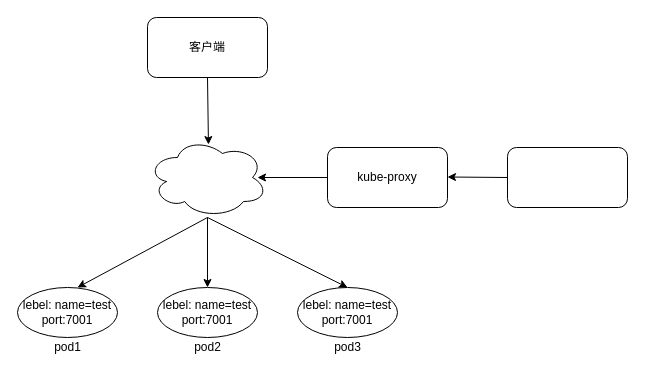
This 645x375 diagram has some shape labels left out. The centre of each missing label's shape, as x and y in pixels:
"API service" belongs at (x=567, y=177).
"clusterIp Virtual Service" belongs at (x=207, y=177).
